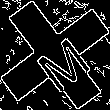M_NW: (22, 21, 88, 89)
